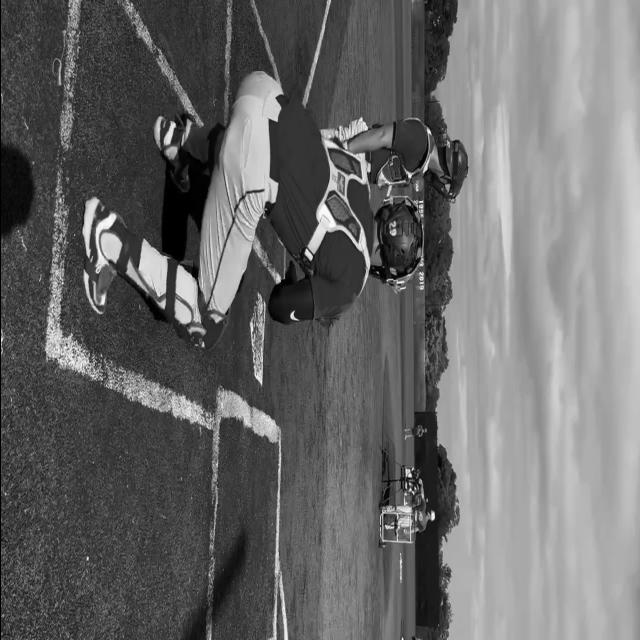base: (246, 296, 266, 385)
shoe: (81, 196, 125, 314), (152, 114, 190, 192)
